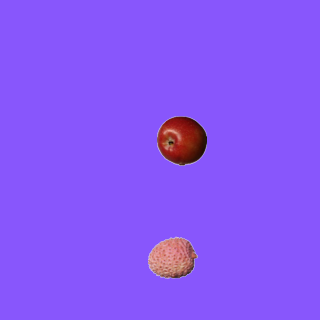Apple Braeburn: (156, 115, 206, 165)
Lychee: (147, 232, 197, 282)
